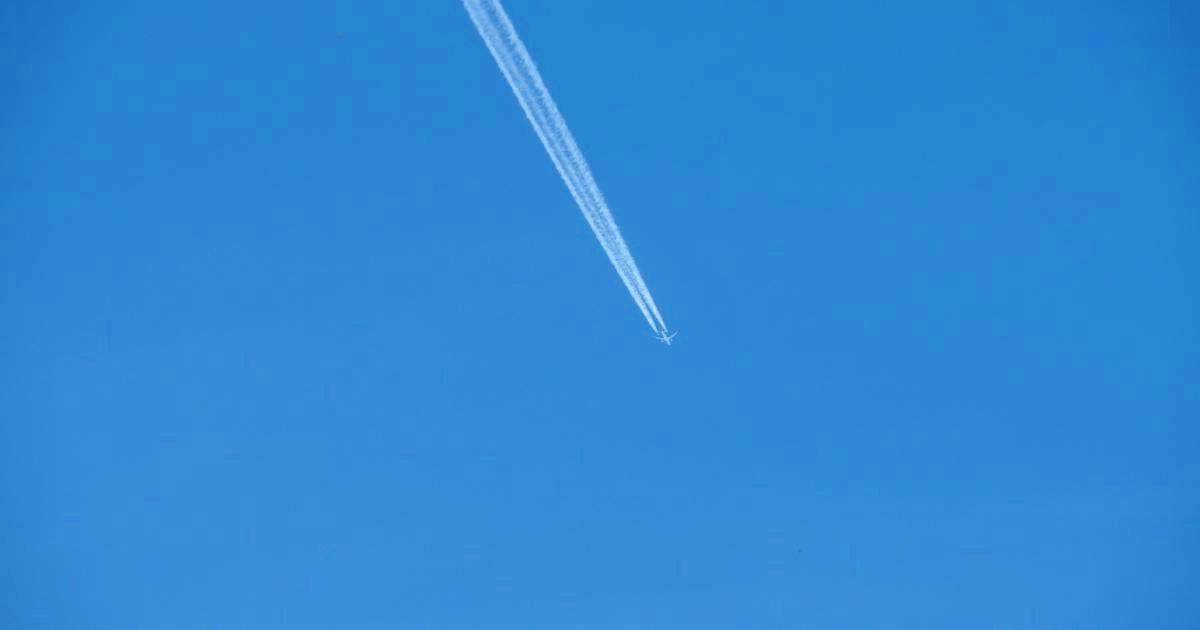Plane: (452, 20, 747, 354)
